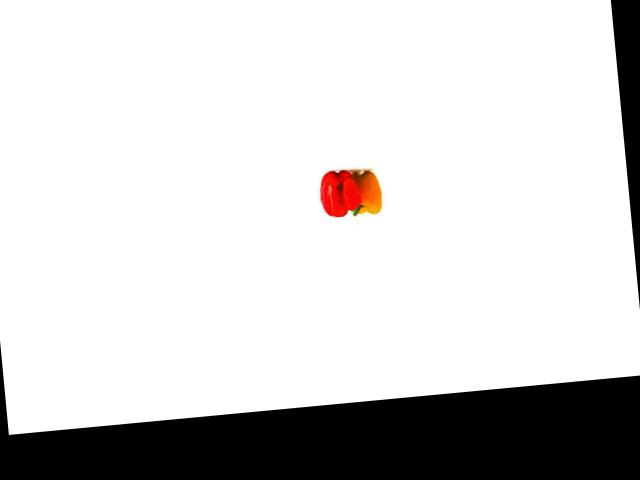bell_pepper: (343, 166, 384, 215)
